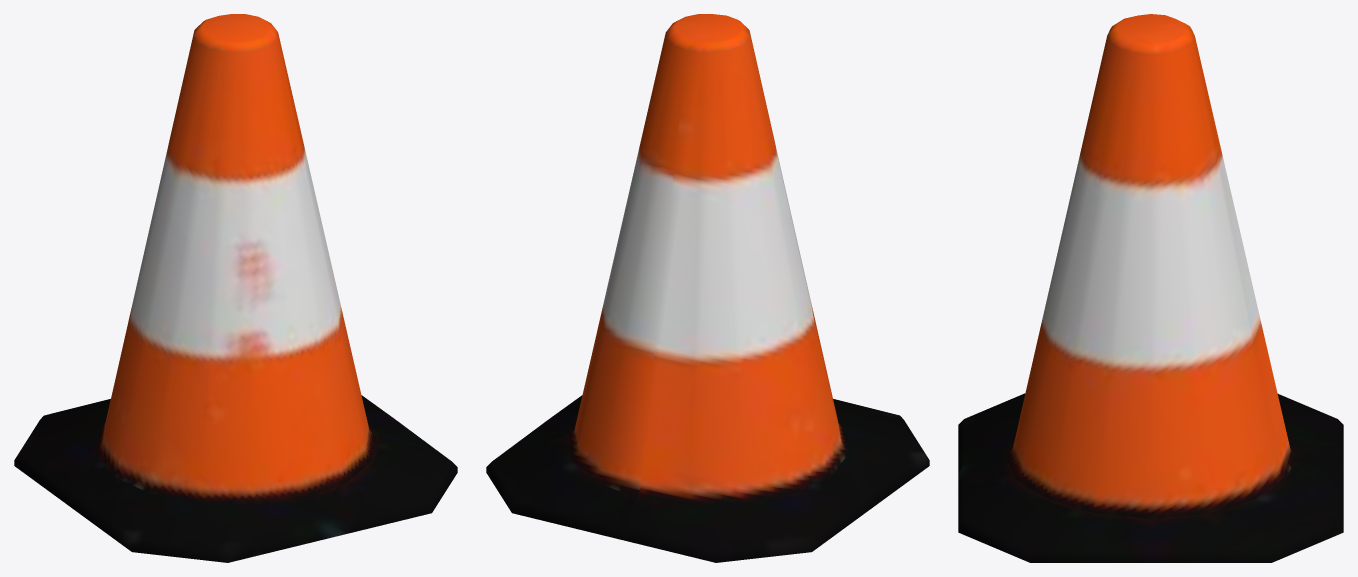
3 renders of one model, left to right at view 1: azimuth 30°, elevation 25°; view 2: azimuth 150°, elevation 25°; view 3: azimuth 270°, elevation 25°, orthographic. The views are drawn at different scales.
Visible parts, largest first — view 1: Object_3; view 2: Object_3; view 3: Object_3.
Boxes of the visible parts, x1,y1,x2,y2 form: Object_3: (14, 14, 457, 562); Object_3: (486, 14, 929, 562); Object_3: (958, 14, 1343, 562).
Bounding box in the file's own units: 0.3538 × 0.4581 × 0.3535.
Materials: 1 (1 with a texture image).
